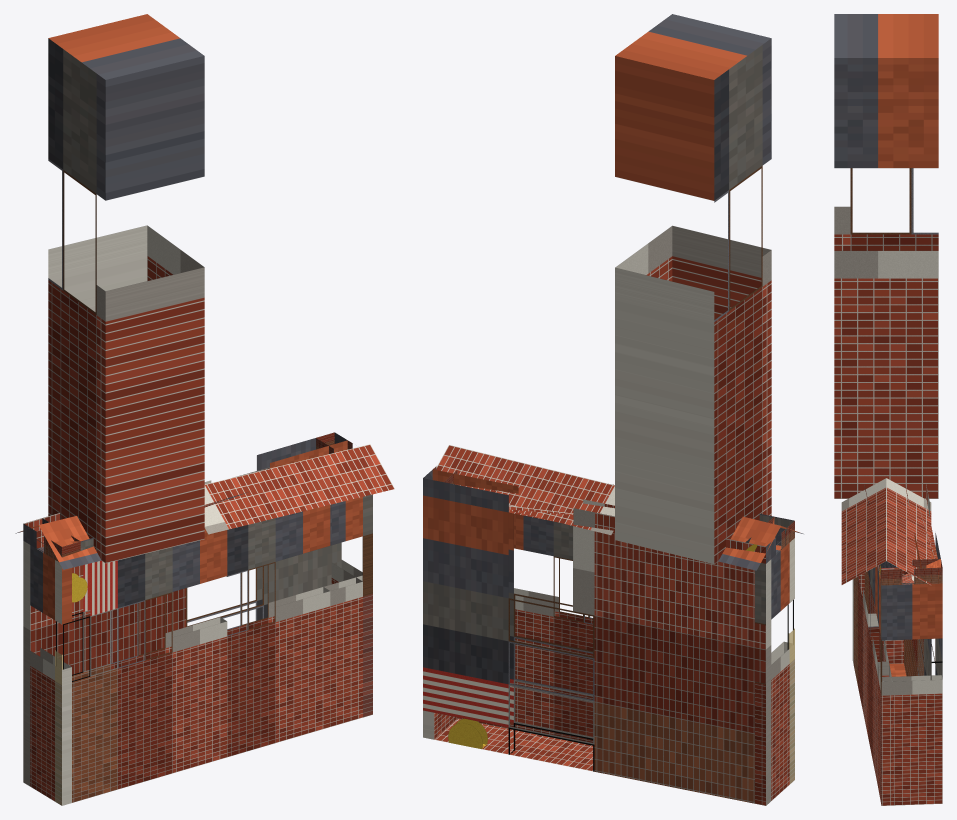
3 views of the same model, side by side, from view 1: azimuth 30°, elevation 25°; view 2: azimuth 150°, elevation 25°; view 3: azimuth 270°, elevation 25° (orthographic). The views are drawn at different scales.
Parts seen in each view (by area): view 1: 238536131__chimney_0_xb, 238536131__wall_5_xb, 238536131__wall_0_xb, 238536131__wall_3_xb, 238536131_roof_-1_xb, 238536131__wall_4_xb, 238536131__wall_1_xb, 238536131__wall_2_xb, 238536131__cornice_3; view 2: 238536131__chimney_0_xb, 238536131__wall_3_xb, 238536131__wall_0_xb, 238536131_roof_1_xb, 238536131__wall_4_xb, 238536131__cornice_3, 238536131__base, 238536131__wall_5_xb; view 3: 238536131__chimney_0_xb, 238536131__wall_2_xb, 238536131_roof_-1_xb, 238536131_roof_1_xb, 238536131__wall_1_xb, 238536131__wall_5_xb, 238536131__wall_0_xb, 238536131__wall_3_xb, 238536131__cornice_2, 238536131__wall_4_xb, 238536131__cornice_3, 238536131__cornice_1.
Part boxes in pixels (<box>): 238536131__chimney_0_xb: <box>48,14,204,563</box>; 238536131__wall_5_xb: <box>55,528,227,805</box>; 238536131__wall_0_xb: <box>226,505,330,757</box>; 238536131__wall_3_xb: <box>23,541,341,786</box>; 238536131_roof_-1_xb: <box>39,444,394,569</box>; 238536131__wall_4_xb: <box>30,545,71,805</box>; 238536131__wall_1_xb: <box>324,497,362,726</box>; 238536131__wall_2_xb: <box>331,494,372,717</box>; 238536131__cornice_3: <box>23,432,347,548</box>; 238536131__chimney_0_xb: <box>615,14,771,564</box>; 238536131__wall_3_xb: <box>423,495,771,805</box>; 238536131__wall_0_xb: <box>493,513,592,742</box>; 238536131_roof_1_xb: <box>436,445,780,570</box>; 238536131__wall_4_xb: <box>755,543,794,805</box>; 238536131__cornice_3: <box>423,469,775,563</box>; 238536131__base: <box>434,718,592,771</box>; 238536131__wall_5_xb: <box>787,538,794,784</box>; 238536131__chimney_0_xb: <box>834,14,938,498</box>; 238536131__wall_2_xb: <box>880,581,942,805</box>; 238536131_roof_-1_xb: <box>841,478,886,584</box>; 238536131_roof_1_xb: <box>886,478,931,584</box>; 238536131__wall_1_xb: <box>877,566,892,805</box>; 238536131__wall_5_xb: <box>853,571,878,736</box>; 238536131__wall_0_xb: <box>868,566,888,783</box>; 238536131__wall_3_xb: <box>904,499,942,679</box>; 238536131__cornice_2: <box>879,559,942,584</box>; 238536131__wall_4_xb: <box>852,566,903,663</box>; 238536131__cornice_3: <box>905,484,940,568</box>; 238536131__cornice_1: <box>878,565,902,585</box>.
Bounding box in the file's own units: 0.5026 × 1.05 × 0.1558.
Materials: 1 (1 with a texture image).
